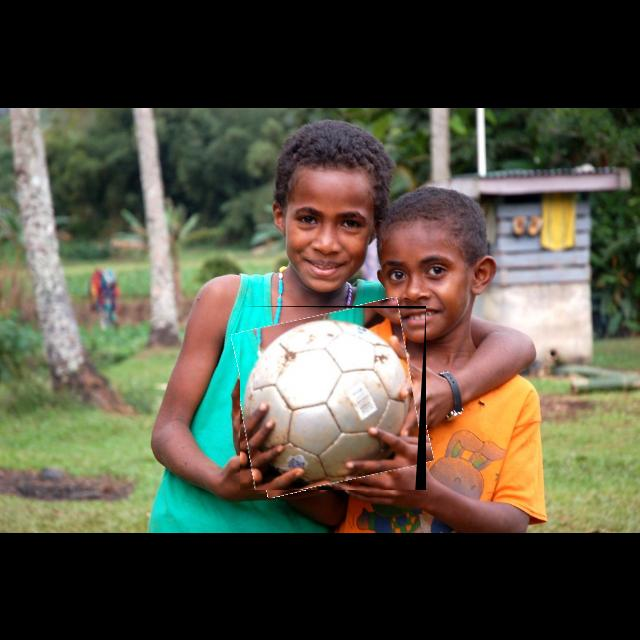Football: (240, 306, 426, 490)
